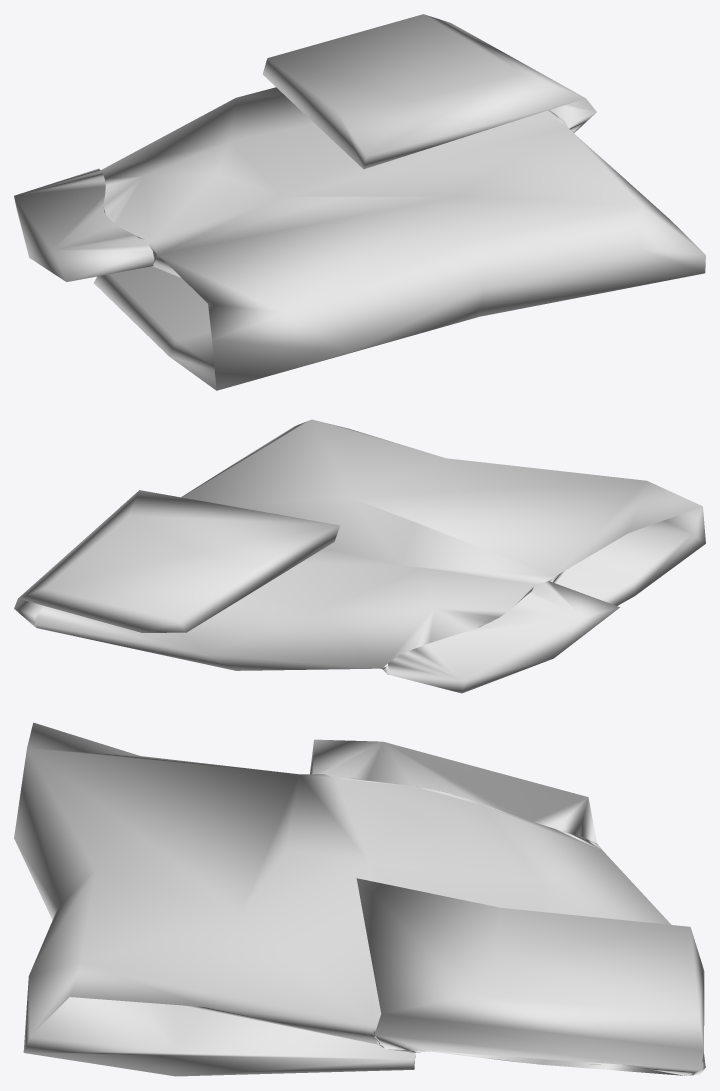
File: MDL_CLWH_unfolded.fbx
The picture shows the model from 3 angles, top to bottom: view 1: azimuth 30°, elevation 25°; view 2: azimuth 150°, elevation 25°; view 3: azimuth 270°, elevation 25°; orthographic projection. The views are drawn at different scales.
Visible parts, largest first — view 1: MDL_CL_unfolded; view 2: MDL_CL_unfolded; view 3: MDL_CL_unfolded.
Part boxes in pixels (left/top/right/bottom): MDL_CL_unfolded: left=14, top=14, right=705, bottom=390; MDL_CL_unfolded: left=14, top=419, right=705, bottom=693; MDL_CL_unfolded: left=14, top=722, right=705, bottom=1076.
Size of the model in its own units: 87.54 by 12.01 by 81.66.
